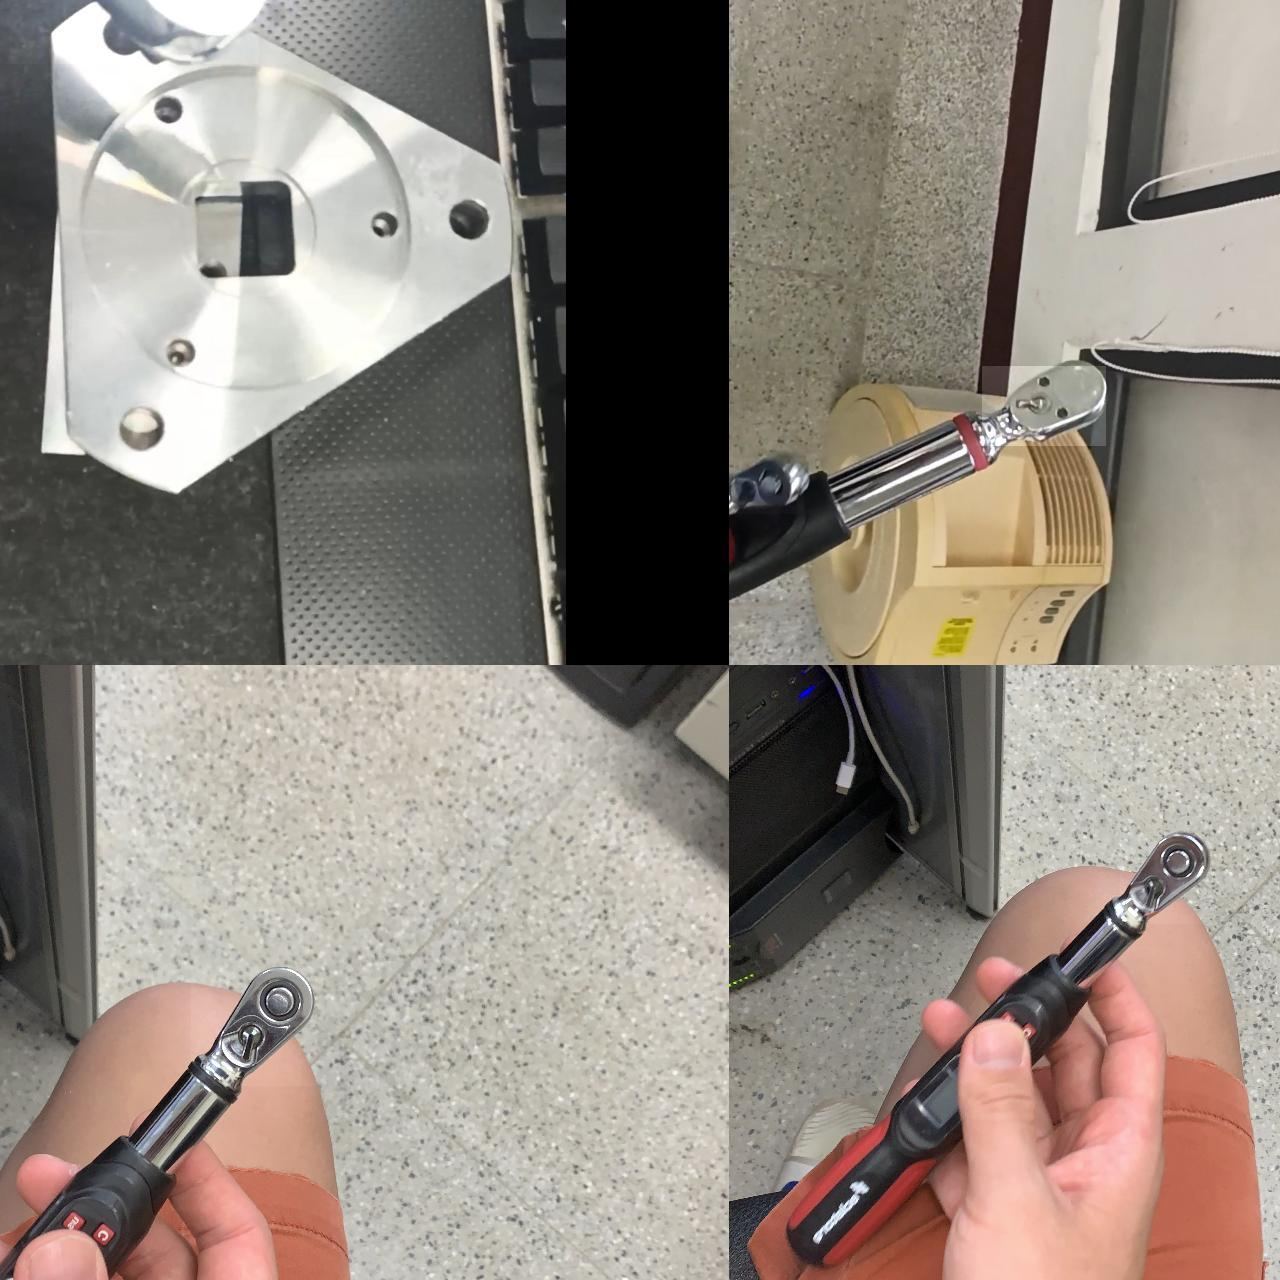Tool: (196, 968, 320, 1089), (985, 366, 1110, 445), (1118, 830, 1213, 921), (727, 455, 802, 512)
hole: (104, 403, 171, 458), (445, 195, 496, 246), (154, 91, 190, 129), (161, 335, 196, 370), (148, 90, 183, 125), (369, 213, 403, 250)
